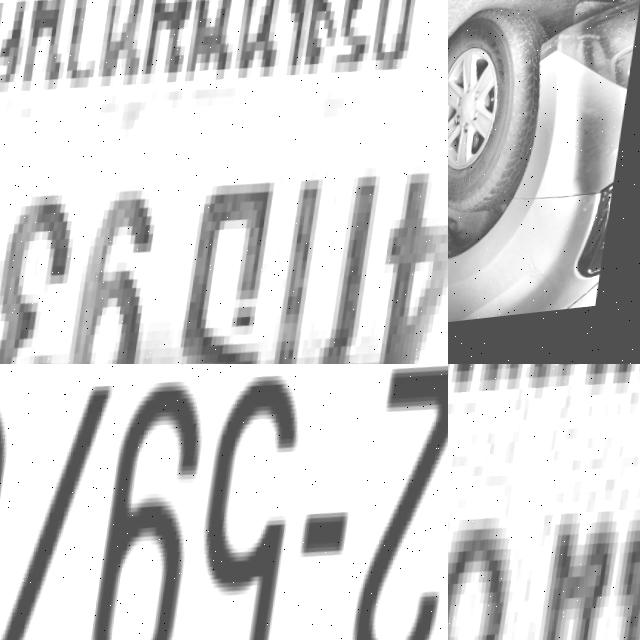license-plate: (0, 0, 448, 364), (0, 364, 448, 640), (448, 364, 640, 640)
